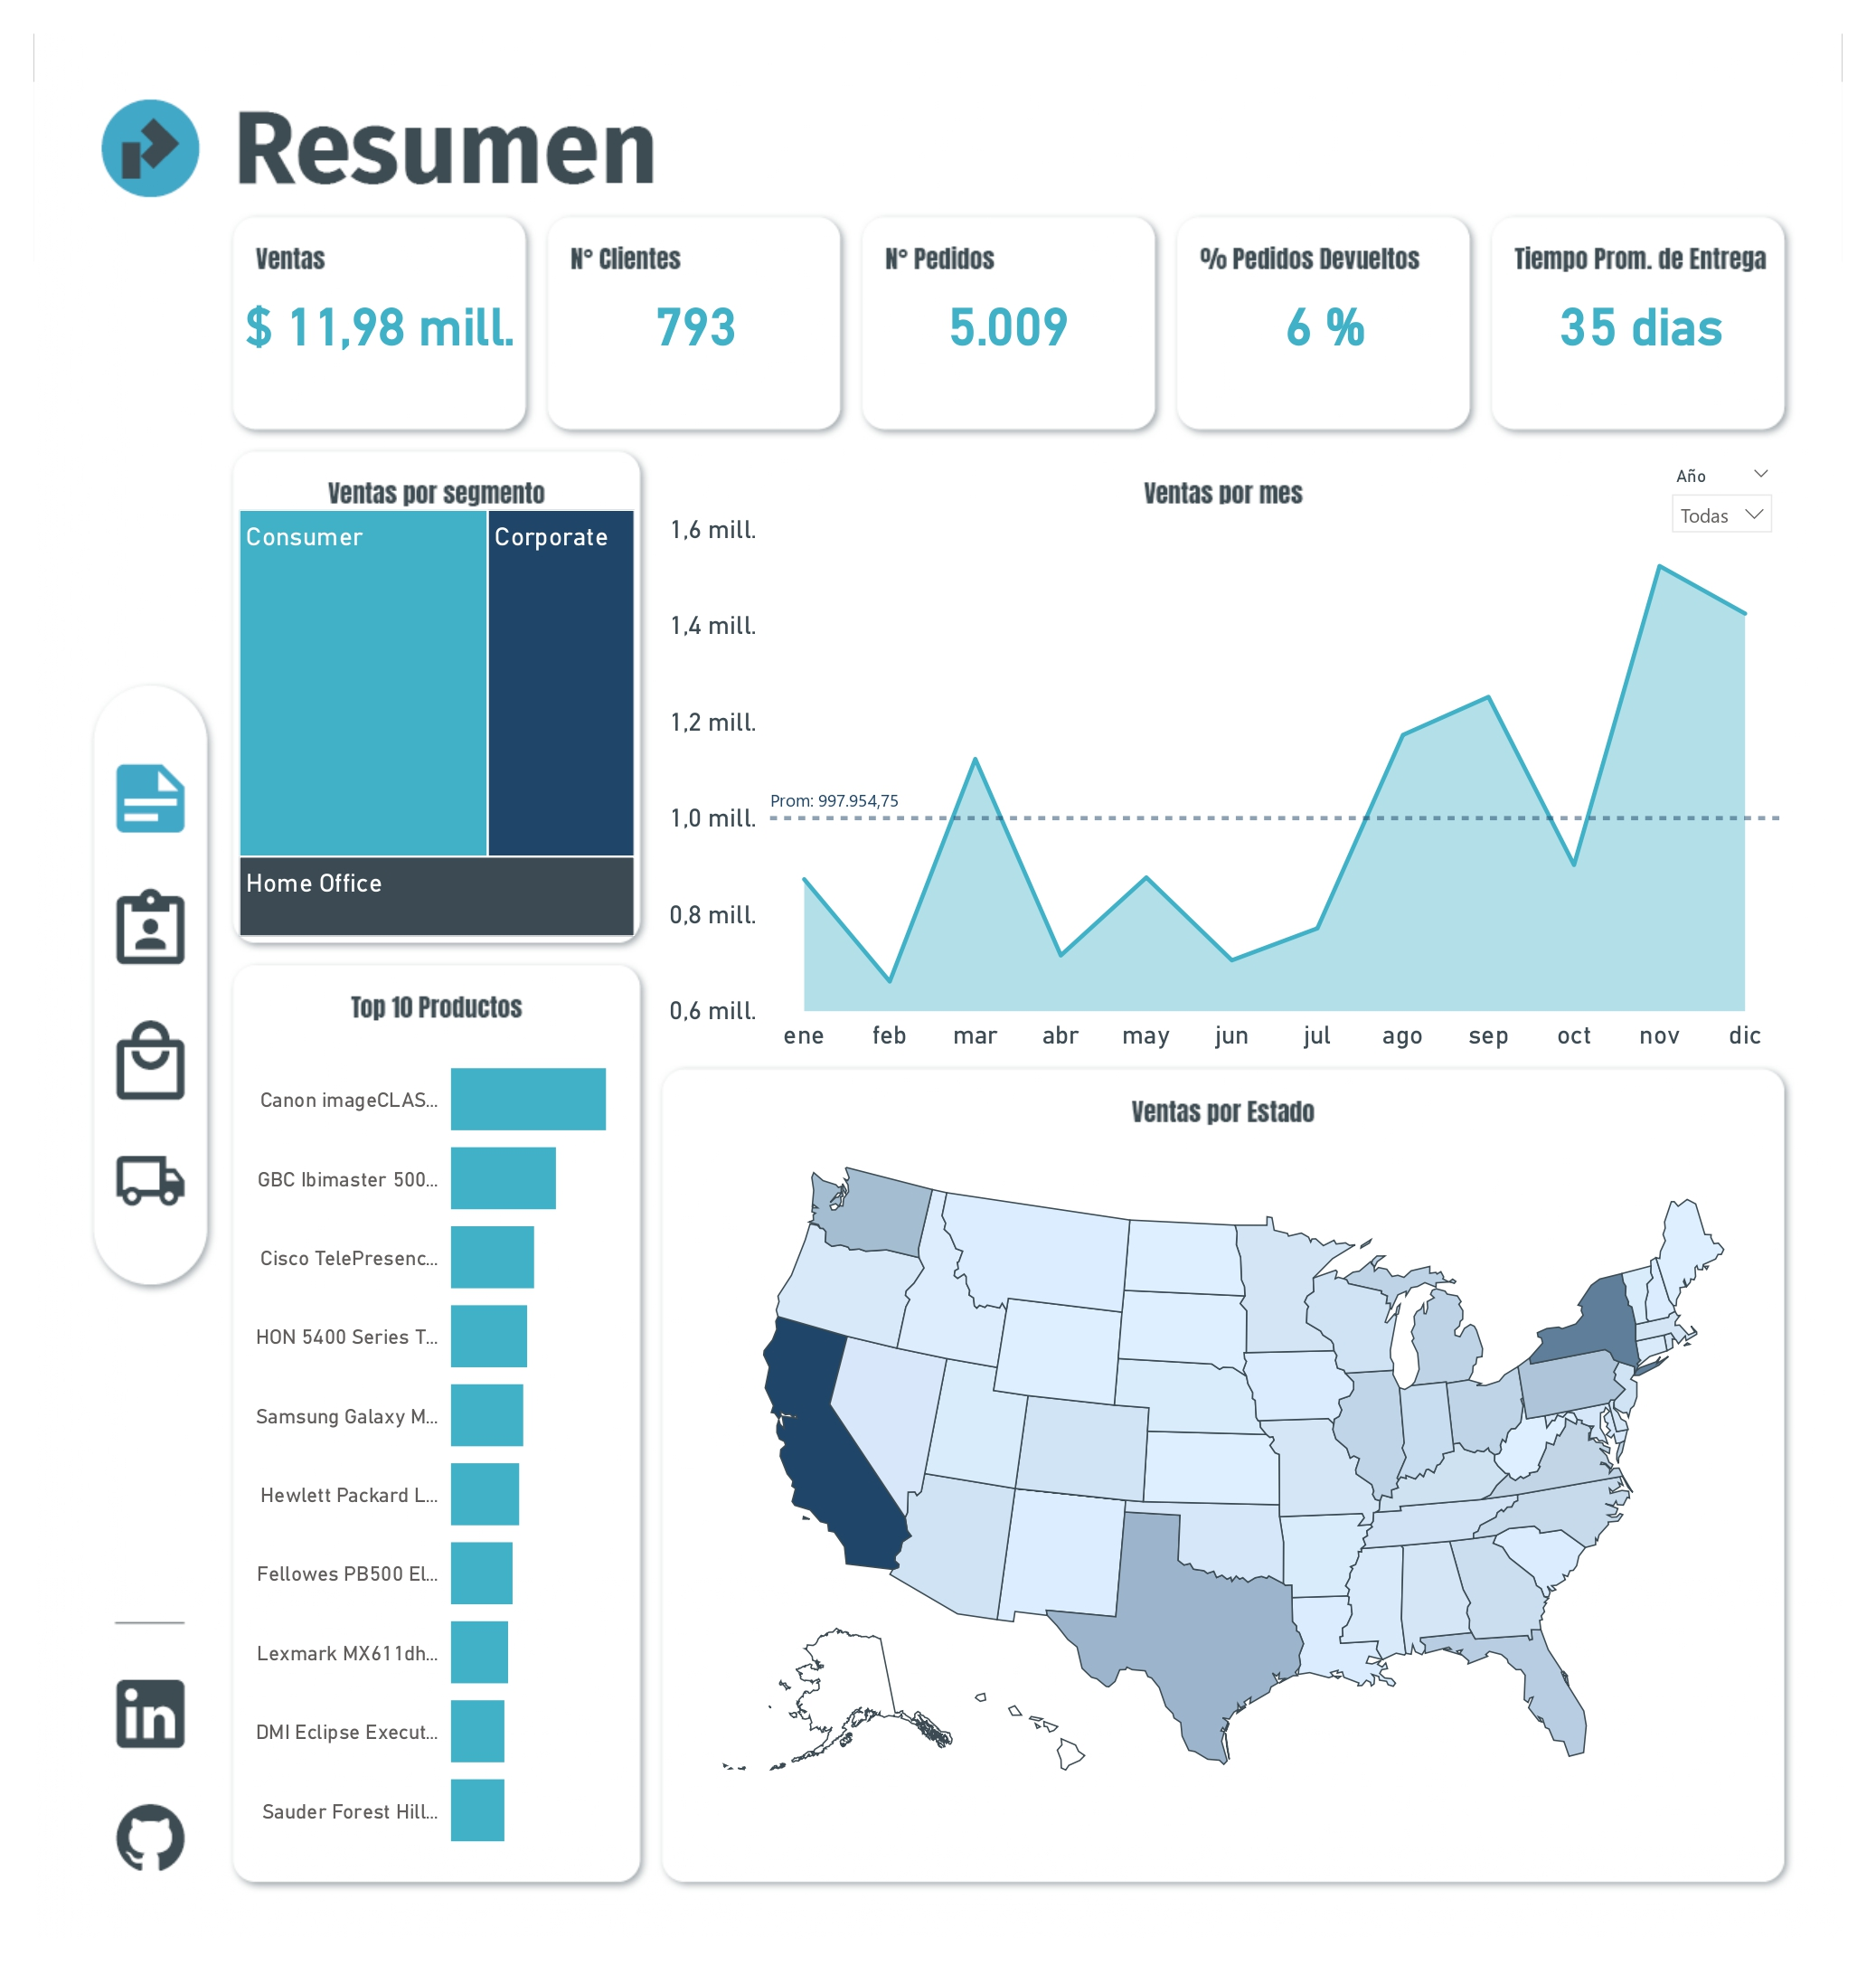

Layout of this report page (visuals, bound fields, positions):
{"tool":"powerbi","page":{"name":"Resumen","canvas":[1280,1350],"ordinal":1},"visuals":[{"type":"actionButton","box":[53.3,510,58.9,62.2],"z":0},{"type":"actionButton","box":[53.3,604.4,58.9,62.2],"z":1000},{"type":"actionButton","box":[53.3,695.6,58.9,62.2],"z":2000},{"type":"actionButton","box":[53.3,778.9,58.9,62.2],"z":3000},{"type":"card","fields":{"Values":["Medidas.VENTAS"]},"box":[140,127.5,209.2,152.5],"z":4000},{"type":"card","fields":{"Values":["Medidas.CLIENTES UNICOS"]},"box":[364.2,127.5,209.2,152.5],"z":5000},{"type":"card","fields":{"Values":["Medidas.TRANSACCIONES"]},"box":[585,127.5,209.2,152.5],"z":6000},{"type":"card","fields":{"Values":["Medidas.DEVOLUCIONES %"]},"box":[810,127.5,209.2,152.5],"z":7000},{"type":"card","fields":{"Values":["Medidas.TIEMPO PROMEDIO DE ENTREGA"]},"box":[1033.8,127.5,208.8,152.5],"z":8000},{"type":"treemap","fields":{"Values":["Medidas.VENTAS"],"Group":["dimCliente.Segment"]},"box":[140,332.2,290,312.2],"z":9000},{"type":"barChart","fields":{"Y":["Medidas.VENTAS"],"Category":["dimProducto.Name"]},"box":[140,696.7,290,611.1],"z":10000},{"type":"shapeMap","fields":{"Category":["dimRegion.State"],"Value":["Medidas.VENTAS"]},"box":[443.8,725.5,797.2,582],"z":11000},{"type":"areaChart","fields":{"Category":["dimCalendario.Mes Nombre"],"Y":["Medidas.VENTAS"]},"box":[444.3,332.9,797.1,392.9],"z":12000},{"type":"slicer","fields":{"Values":["dimCalendario.Año"]},"box":[1150,301.2,91.2,62.5],"z":13000}]}

Visuals, with their boxes in screenshot pixels (x1, y1, x2, y2), scaled from the page's 1280x1350 canvas onto the 1876x1975 screenshot:
actionButton: 78:746:165:837
actionButton: 78:884:165:975
actionButton: 78:1017:165:1109
actionButton: 78:1139:165:1231
card - Medidas.VENTAS: 205:186:512:410
card - Medidas.CLIENTES UNICOS: 533:186:841:410
card - Medidas.TRANSACCIONES: 857:186:1164:410
card - Medidas.DEVOLUCIONES %: 1187:186:1494:410
card - Medidas.TIEMPO PROMEDIO DE ENTREGA: 1515:186:1821:410
treemap - Medidas.VENTAS x dimCliente.Segment: 205:486:630:942
barChart - Medidas.VENTAS x dimProducto.Name: 205:1019:630:1914
shapeMap - dimRegion.State x Medidas.VENTAS: 650:1062:1819:1913
areaChart - dimCalendario.Mes Nombre x Medidas.VENTAS: 651:487:1819:1062
slicer - dimCalendario.Año: 1685:440:1819:532
